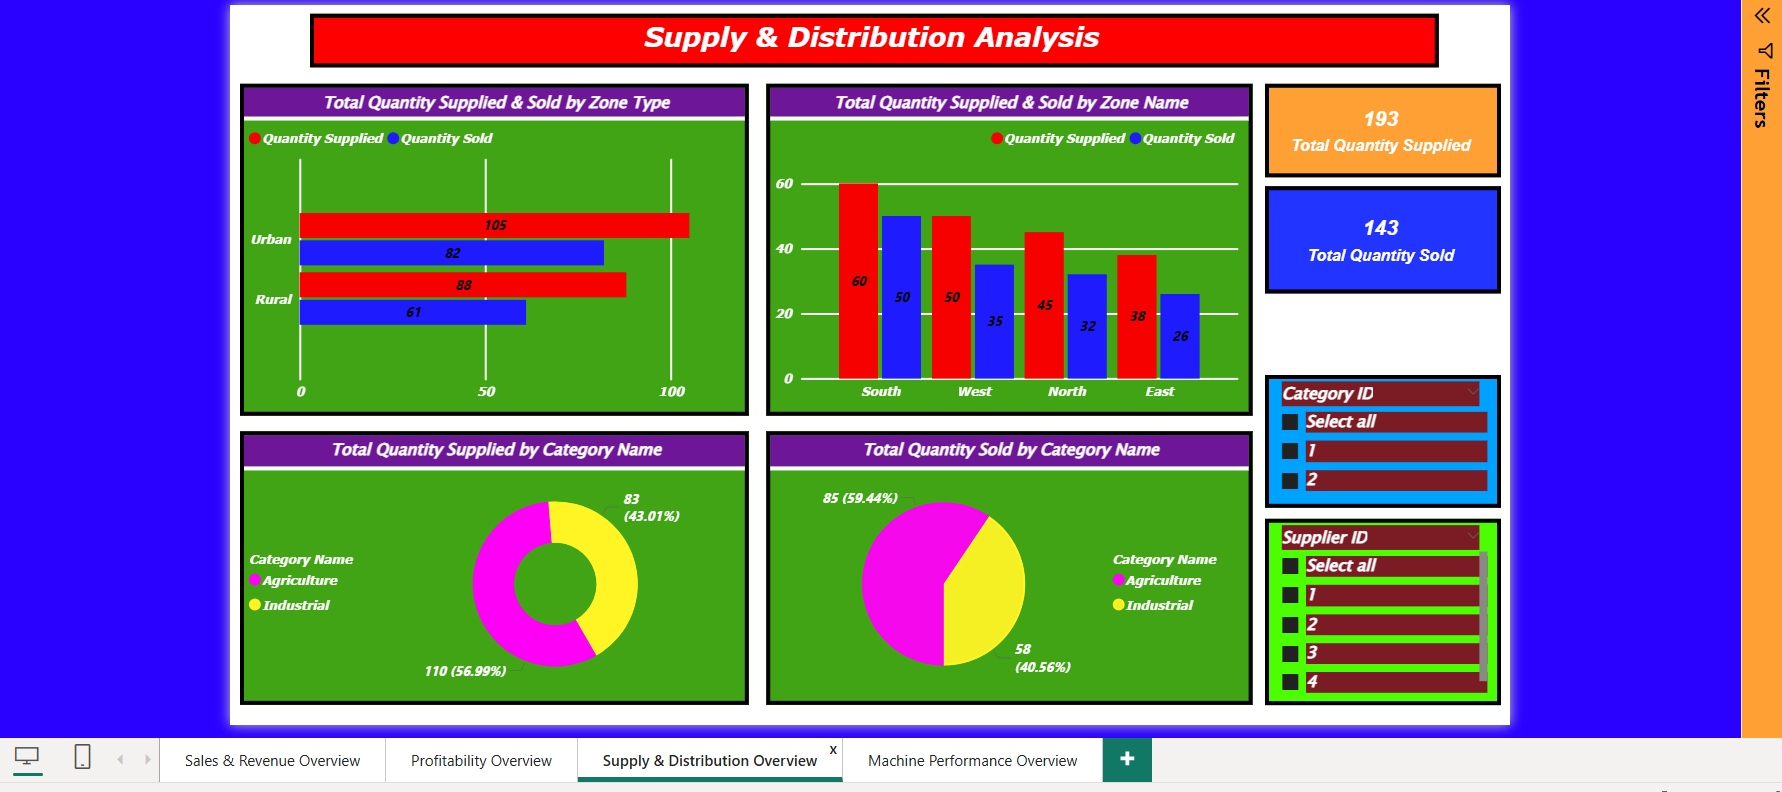

The page's visual inventory and layout, read from the dashboard file:
{"tool":"powerbi","page":{"name":"Supply & Distribution Overview","canvas":[1280,720],"ordinal":2},"visuals":[{"type":"pieChart","title":"Total Quantity Sold by Category Name","fields":{"Category":["Category_Metrics.Category Name"],"Y":["Sum(Sales_Records.Quantity Sold)"]},"box":[536.9,425.9,486.2,273.9],"z":0},{"type":"clusteredColumnChart","title":"Total Quantity Supplied & Sold by Zone Name","fields":{"Category":["Zone_Overview.Zone Name"],"Y":["Sum(Suppliers_Profile.Quantity Supplied)","Sum(Sales_Records.Quantity Sold)"]},"box":[536.9,78.4,486.2,331.8],"z":1000},{"type":"card","fields":{"Values":["Sum(Sales_Records.Quantity Sold)"]},"box":[1035,181.2,236.2,107.5],"z":2000},{"type":"card","fields":{"Values":["Sum(Suppliers_Profile.Quantity Supplied)"]},"box":[1035,78.8,236.2,93.8],"z":3000},{"type":"textbox","box":[80,8.8,1128.8,53.8],"z":6000},{"type":"slicer","fields":{"Values":["Category_Metrics.Category ID"]},"box":[1035,370,236.2,132.5],"z":7000},{"type":"slicer","fields":{"Values":["Suppliers_Profile.Supplier ID"]},"box":[1035,513.8,236.2,186.2],"z":8000},{"type":"donutChart","title":"Total Quantity Supplied by Category Name","fields":{"Category":["Category_Metrics.Category Name"],"Y":["Sum(Suppliers_Profile.Quantity Supplied)"]},"box":[9.7,425.9,509.1,273.9],"z":9000},{"type":"clusteredBarChart","title":"Total Quantity Supplied & Sold by Zone Type","fields":{"Category":["Zone_Overview.Zone Type"],"Y":["Sum(Suppliers_Profile.Quantity Supplied)","Sum(Sales_Records.Quantity Sold)"]},"box":[9.7,78.4,509.1,331.8],"z":10000}]}

Visuals, with their boxes on the page's 1280x720 design canvas (x1, y1, x2, y2). These are canvas units, not pixel positions in the 1782x792 screenshot, which may show the page scaled, cropped or inside an application window:
"Total Quantity Sold by Category Name" pieChart: region(537, 426, 1023, 700)
"Total Quantity Supplied & Sold by Zone Name" clusteredColumnChart: region(537, 78, 1023, 410)
card - Sum(Sales_Records.Quantity Sold): region(1035, 181, 1271, 289)
card - Sum(Suppliers_Profile.Quantity Supplied): region(1035, 79, 1271, 173)
textbox: region(80, 9, 1209, 63)
slicer - Category_Metrics.Category ID: region(1035, 370, 1271, 502)
slicer - Suppliers_Profile.Supplier ID: region(1035, 514, 1271, 700)
"Total Quantity Supplied by Category Name" donutChart: region(10, 426, 519, 700)
"Total Quantity Supplied & Sold by Zone Type" clusteredBarChart: region(10, 78, 519, 410)
